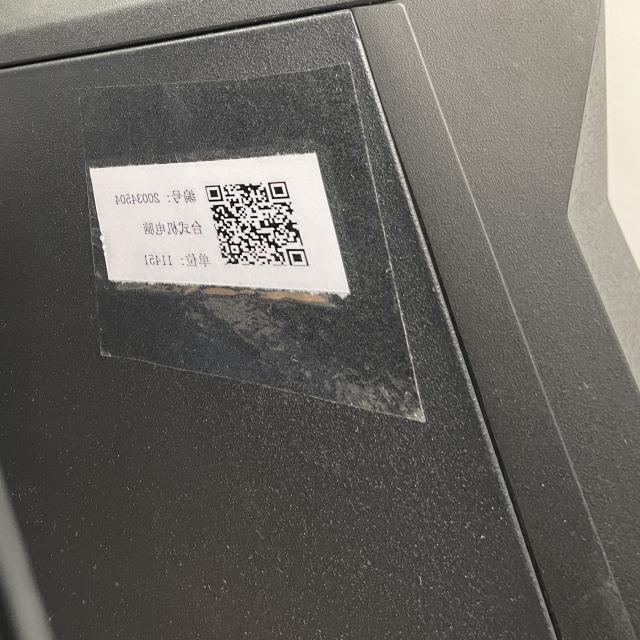qr_code: (205, 182, 309, 266)
